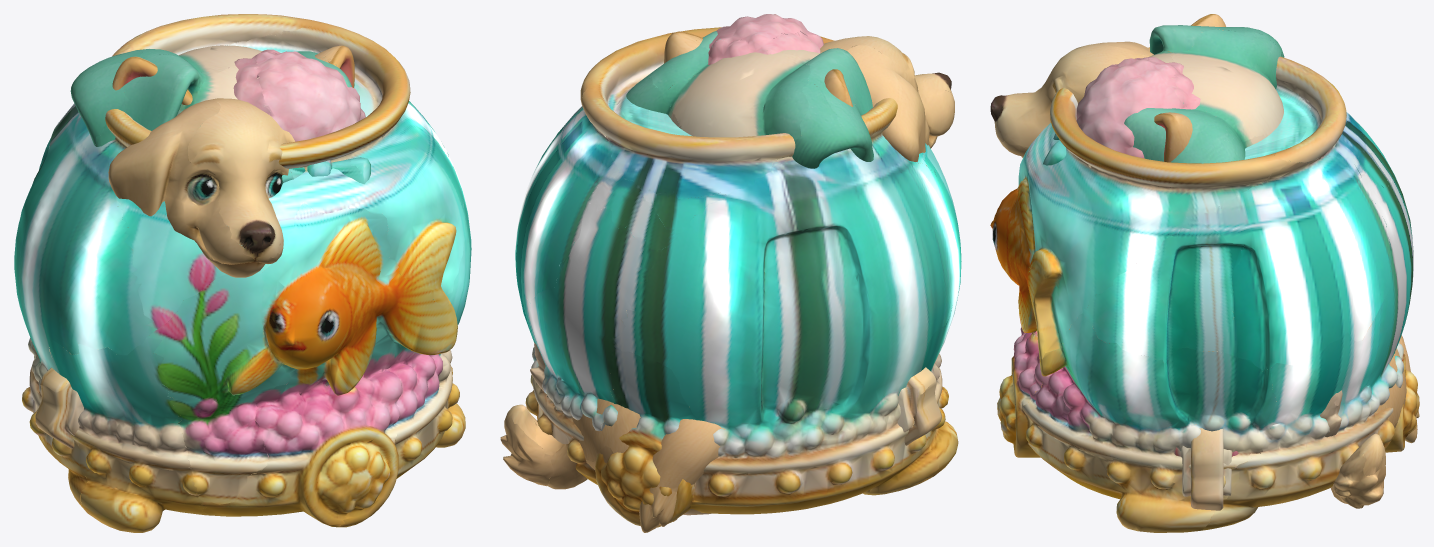
Rendered from store_items_sheet_06_mobile.glb.
The picture shows the model from 3 angles, left to right: view 1: azimuth 30°, elevation 25°; view 2: azimuth 150°, elevation 25°; view 3: azimuth 270°, elevation 25°; orthographic projection. The views are drawn at different scales.
Parts seen in each view (by area): view 1: pet_fish, pet_dog_ser, pet_dog_dog, pet_dog_pud, pet_paw, pet_cat_org; view 2: pet_fish, pet_dog_dog, pet_dog_ser, pet_dog_pud, pet_paw, pet_cat_org; view 3: pet_fish, pet_dog_dog, pet_dog_ser, pet_dog_pud, pet_paw, pet_cat_org.
Part boxes in pixels (bbox=[...]): pet_fish: bbox=[14, 14, 471, 532]; pet_dog_ser: bbox=[108, 98, 294, 474]; pet_dog_dog: bbox=[70, 45, 354, 385]; pet_dog_pud: bbox=[233, 49, 399, 458]; pet_paw: bbox=[35, 350, 401, 449]; pet_cat_org: bbox=[112, 45, 354, 467]; pet_fish: bbox=[515, 27, 961, 527]; pet_dog_dog: bbox=[530, 31, 873, 391]; pet_dog_ser: bbox=[500, 36, 954, 532]; pet_dog_pud: bbox=[708, 14, 823, 64]; pet_paw: bbox=[626, 310, 941, 445]; pet_cat_org: bbox=[664, 31, 852, 106]; pet_fish: bbox=[990, 47, 1419, 532]; pet_dog_dog: bbox=[1124, 25, 1342, 437]; pet_dog_ser: bbox=[990, 41, 1419, 508]; pet_dog_pud: bbox=[1043, 56, 1200, 343]; pet_paw: bbox=[1174, 424, 1238, 510]; pet_cat_org: bbox=[1154, 14, 1256, 462].
Size of the model in its own units: 1.55 by 1.55 by 1.55.
1 material, 1 textured.
